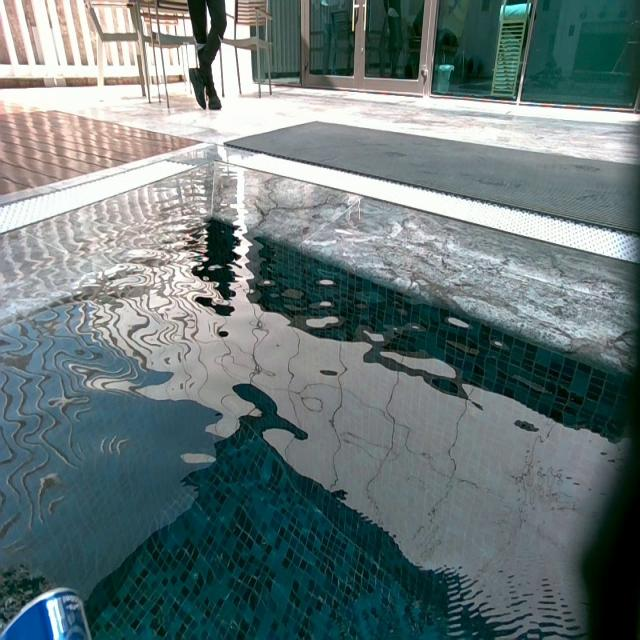Cans: (1, 582, 95, 636)
